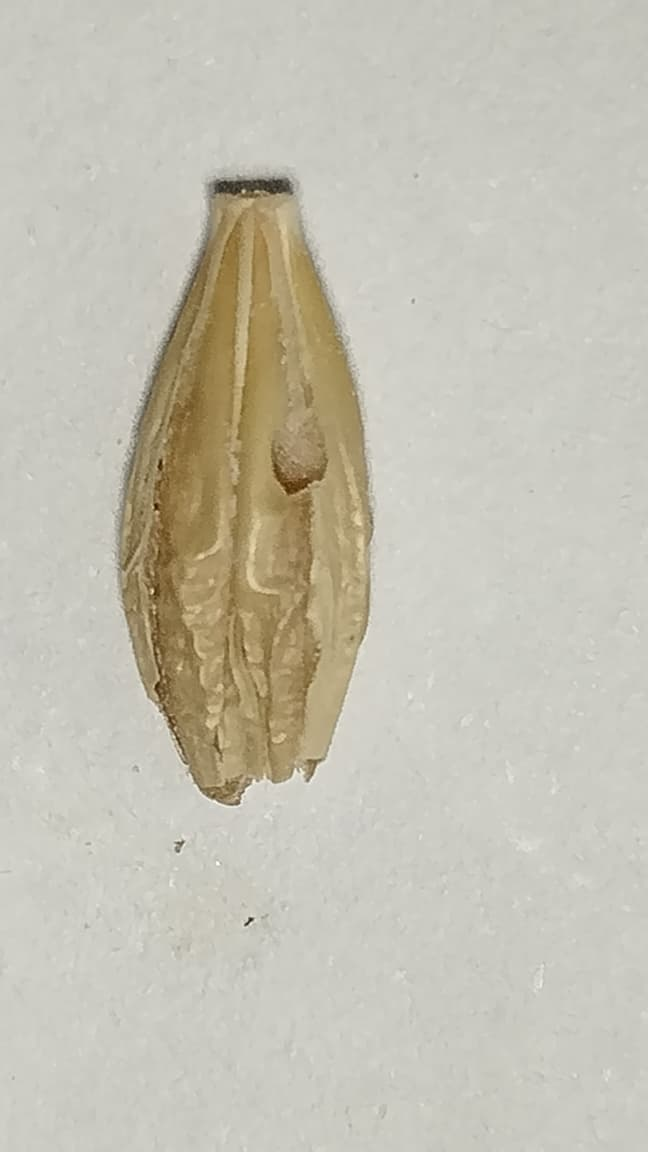damage: (121, 192, 371, 801)
insectdamage: (250, 324, 363, 523), (143, 400, 190, 655), (211, 777, 258, 806), (288, 759, 321, 782)
shriveledseed: (158, 494, 351, 798)
